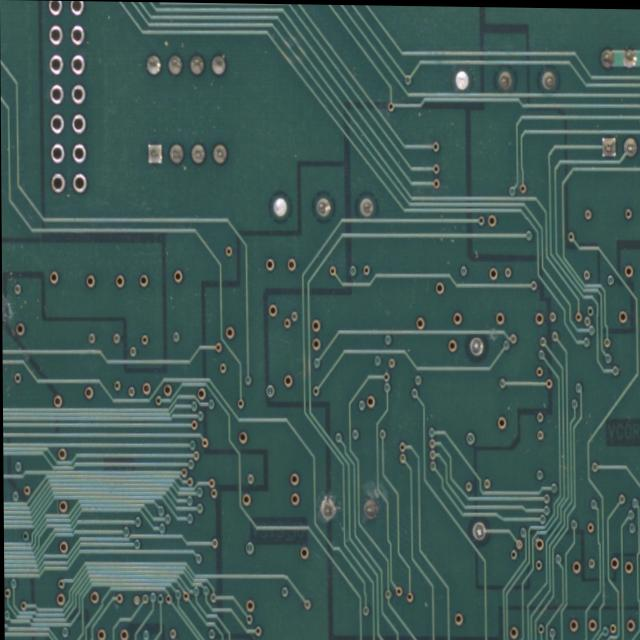connector: (45, 1, 89, 201)
pins: (140, 48, 230, 169), (463, 329, 491, 551), (594, 34, 640, 167), (264, 182, 383, 227), (451, 62, 558, 97), (315, 482, 384, 532), (2, 297, 6, 338)
